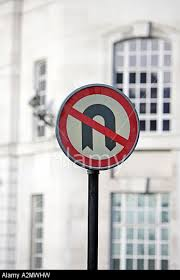No_u_turn: (56, 84, 139, 169)
